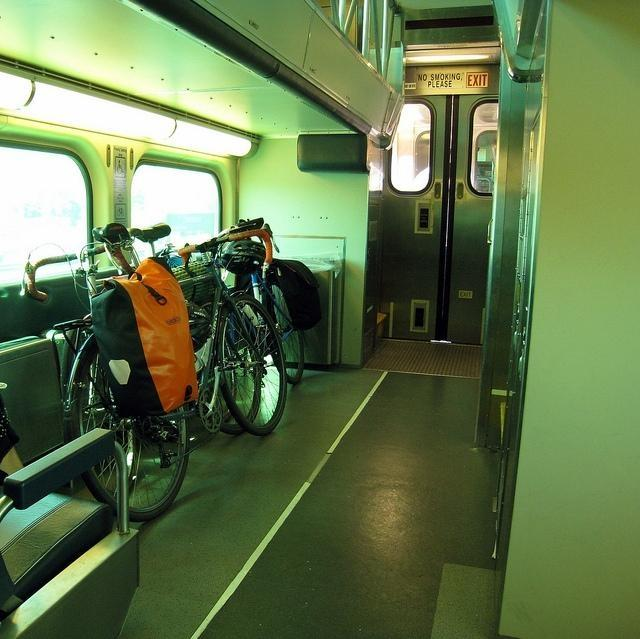bicycle: (52, 229, 288, 524), (215, 216, 306, 384), (19, 230, 144, 308)
